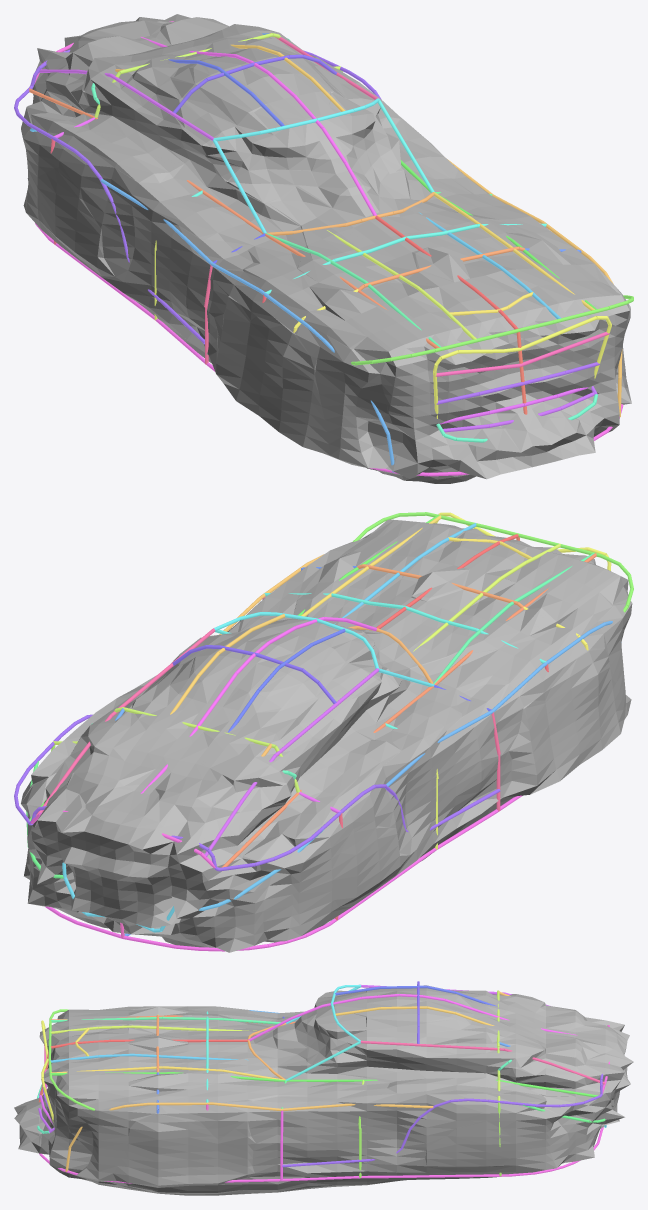
Rendered from t2f_car_97.gltf.
3 views of the same model, one above another, from view 1: azimuth 30°, elevation 25°; view 2: azimuth 150°, elevation 25°; view 3: azimuth 270°, elevation 25° (orthographic). The views are drawn at different scales.
Size of the model in its own units: 0.405 by 0.2936 by 0.9607.
